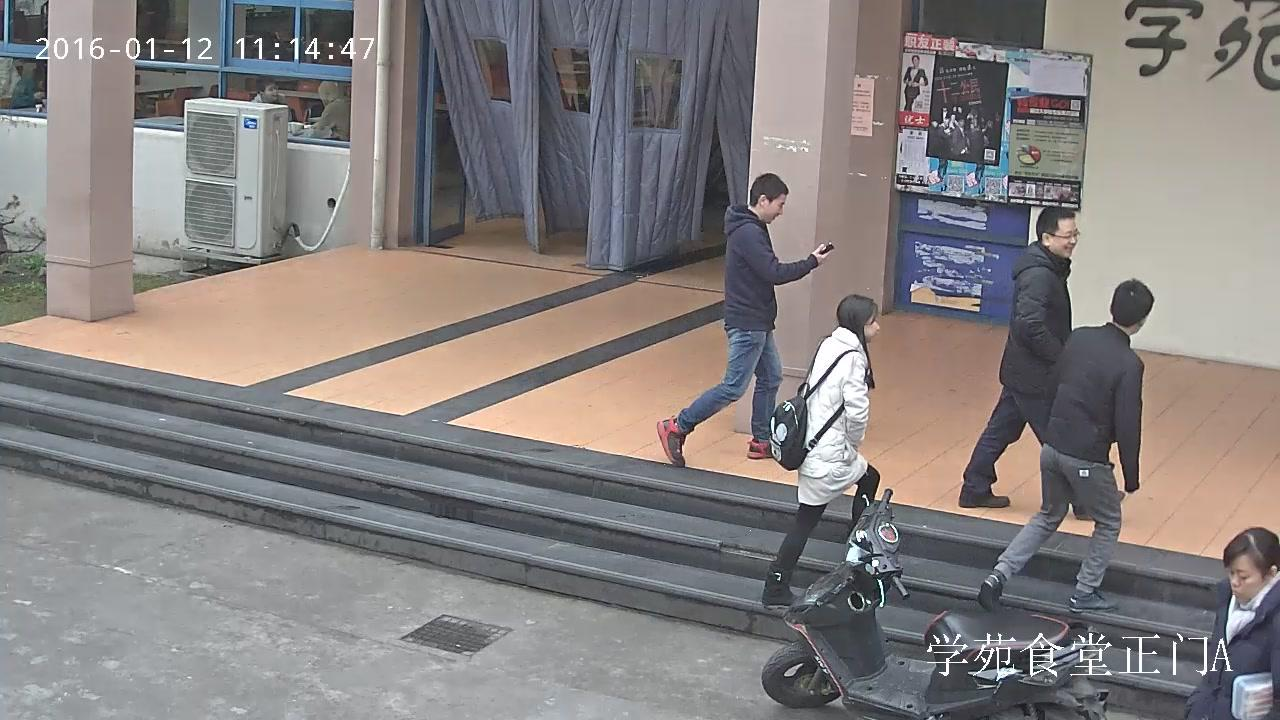person: (977, 277, 1155, 613), (656, 172, 835, 468), (763, 293, 881, 607), (958, 205, 1080, 508), (1184, 527, 1280, 720), (293, 80, 351, 141), (11, 64, 47, 108), (903, 55, 929, 112)
